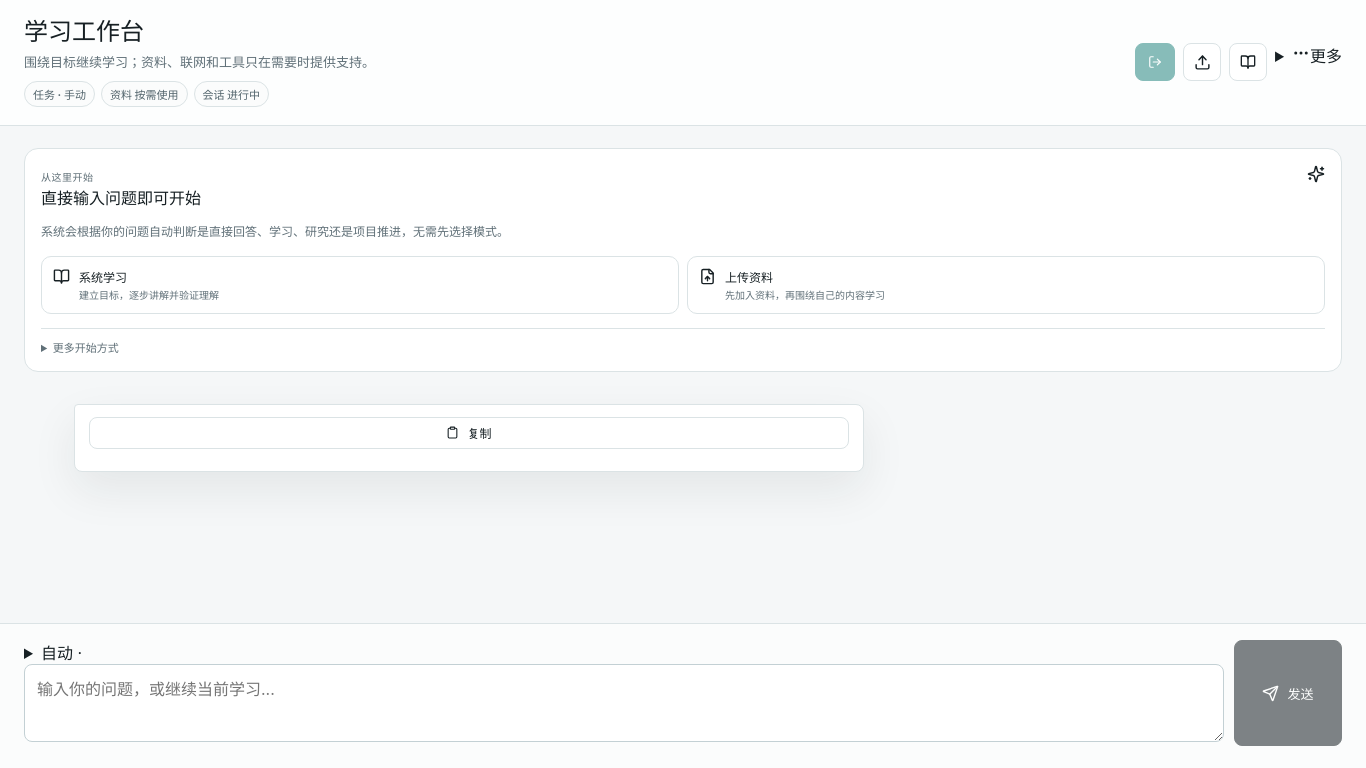
Scenario: ChatPanel copy feedback › reports answer-copy denial
Click the button with aria-label "复制回答正文".
click(469, 433)  # box x1=89 y1=417 x2=849 y2=449
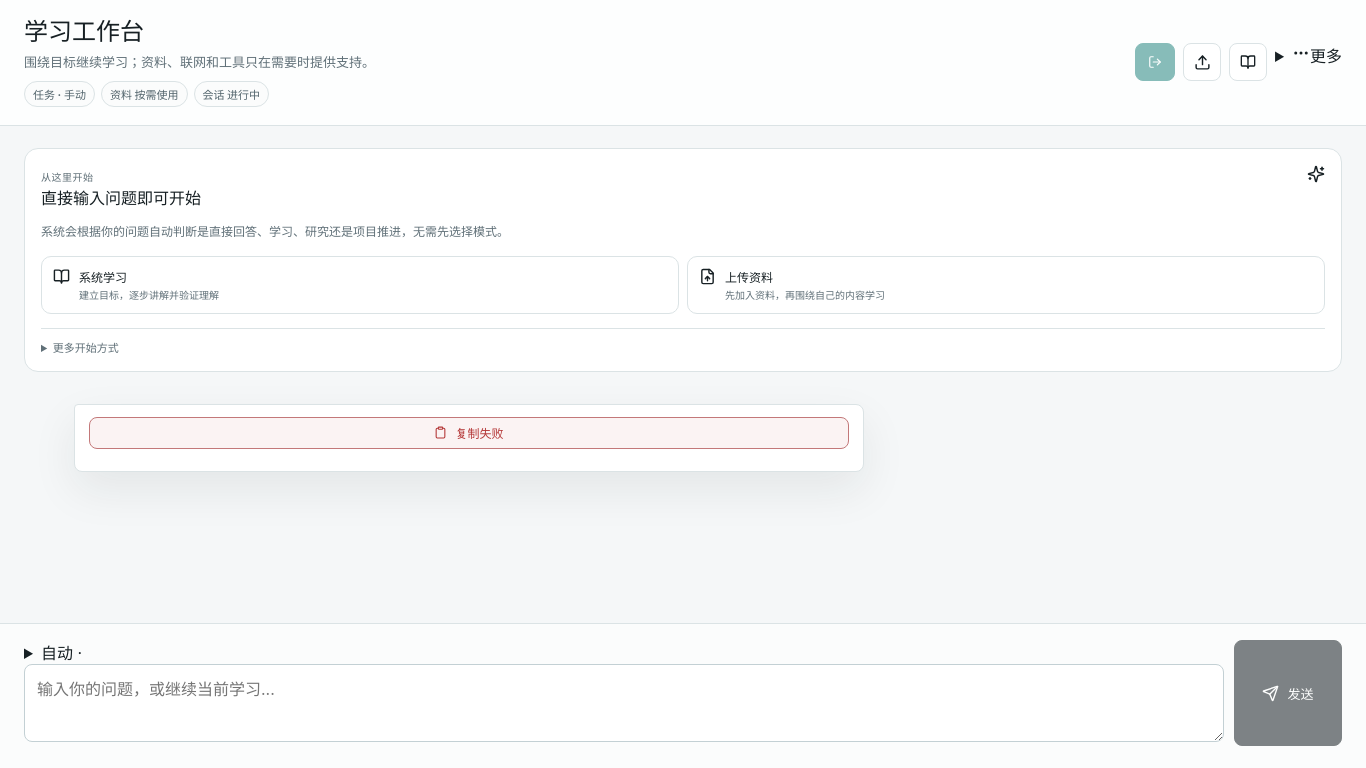
Result: the button with aria-label "复制回答正文" reads "复制失败" at x1=89 y1=417 x2=849 y2=449
